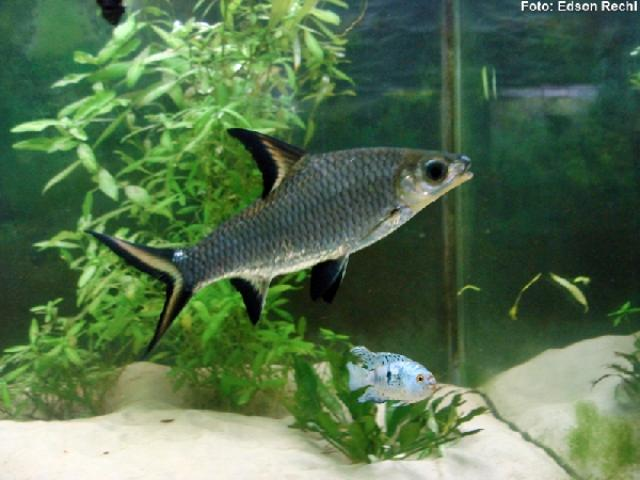Mulut: (431, 138, 504, 198)
Sirip Anal: (223, 261, 283, 341)
Sirip Dada: (354, 192, 422, 254)
Sirip Ekor: (69, 214, 211, 372)
Sirip Perut: (315, 237, 371, 303)
Sirip Punggung: (215, 115, 318, 220)
